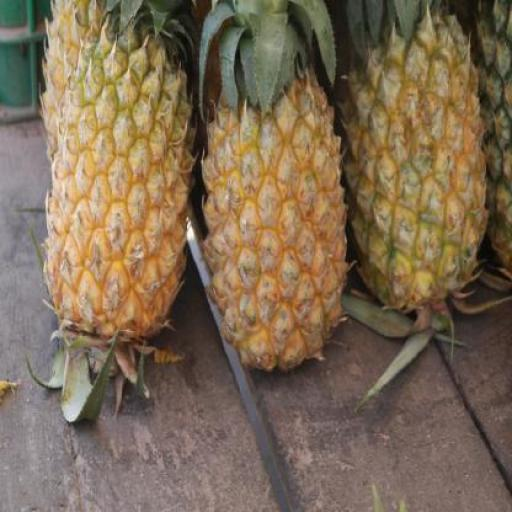------------------------------: (344, 14, 487, 307)
Pineapple - v8 v1: (44, 24, 189, 348), (201, 74, 350, 376)
